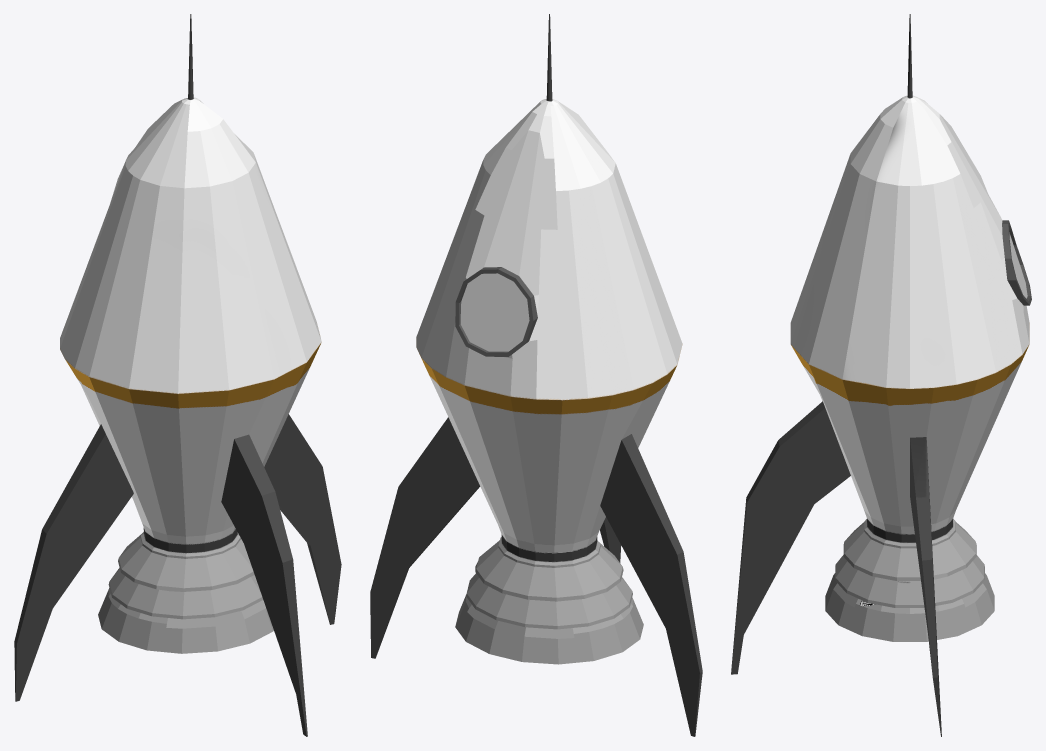
The model's file is rocket no.2.fbx.
3 views of the same model, side by side, from view 1: azimuth 30°, elevation 25°; view 2: azimuth 150°, elevation 25°; view 3: azimuth 270°, elevation 25° (orthographic). The views are drawn at different scales.
Parts seen in each view (by area): view 1: Circle; view 2: Circle, Circle.001; view 3: Circle.
Boxes of the visible parts, x1,y1,x2,y2 form: Circle: [14, 14, 341, 736]; Circle: [370, 14, 702, 736]; Circle.001: [460, 273, 529, 351]; Circle: [731, 14, 1031, 736].
Bounding box in the file's own units: 4 × 7.78 × 3.28.
